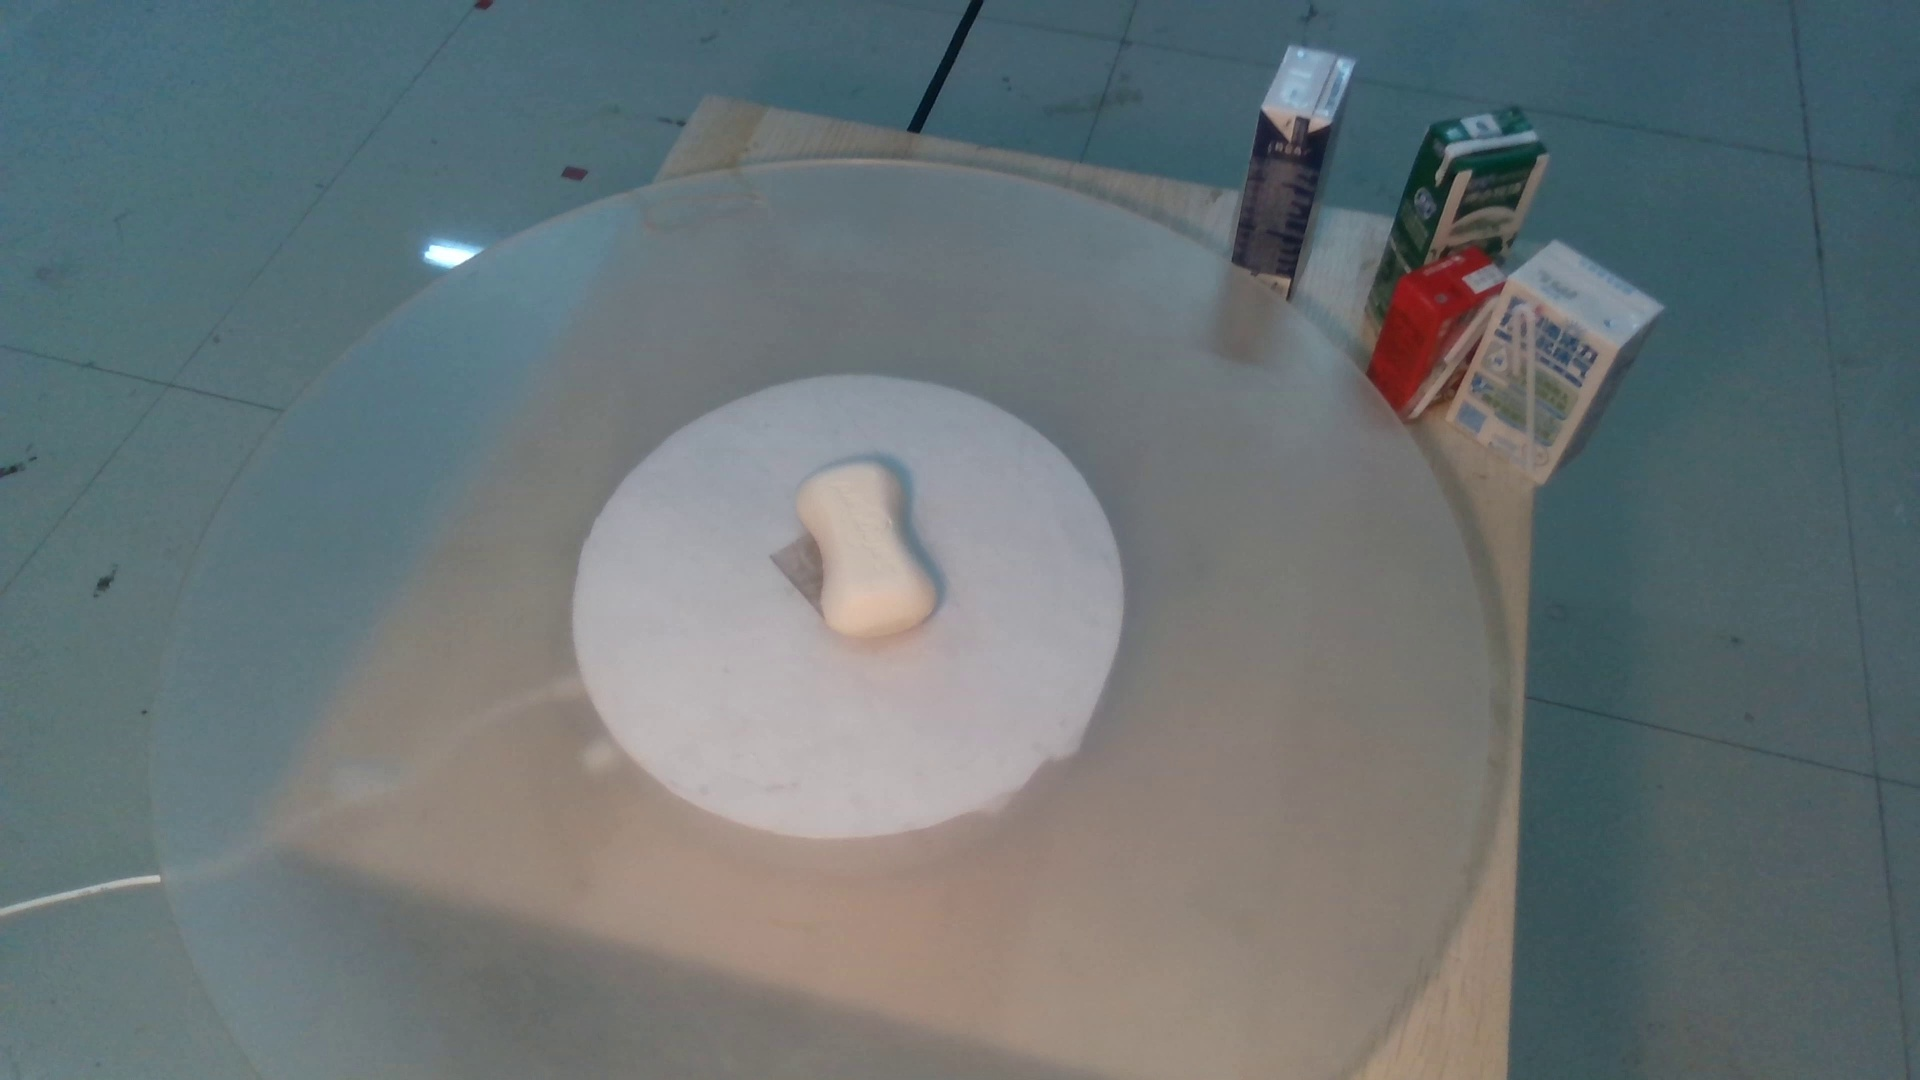CA003_1: (737, 462, 988, 634)
